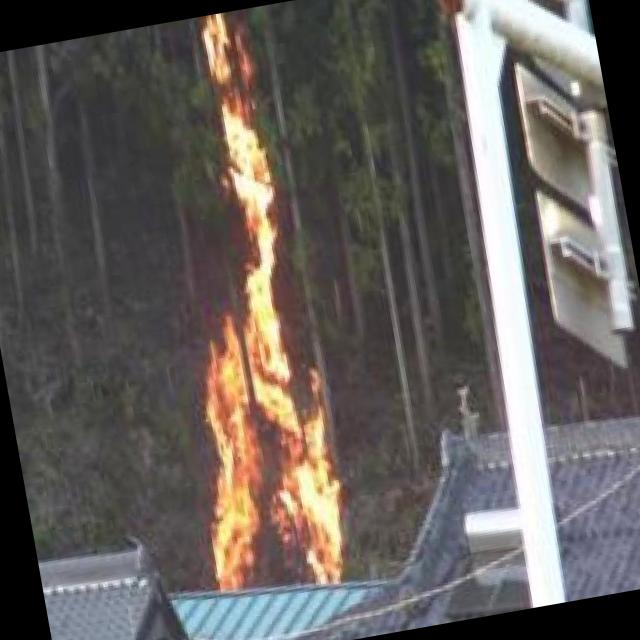Fire: (120, 8, 360, 600)
